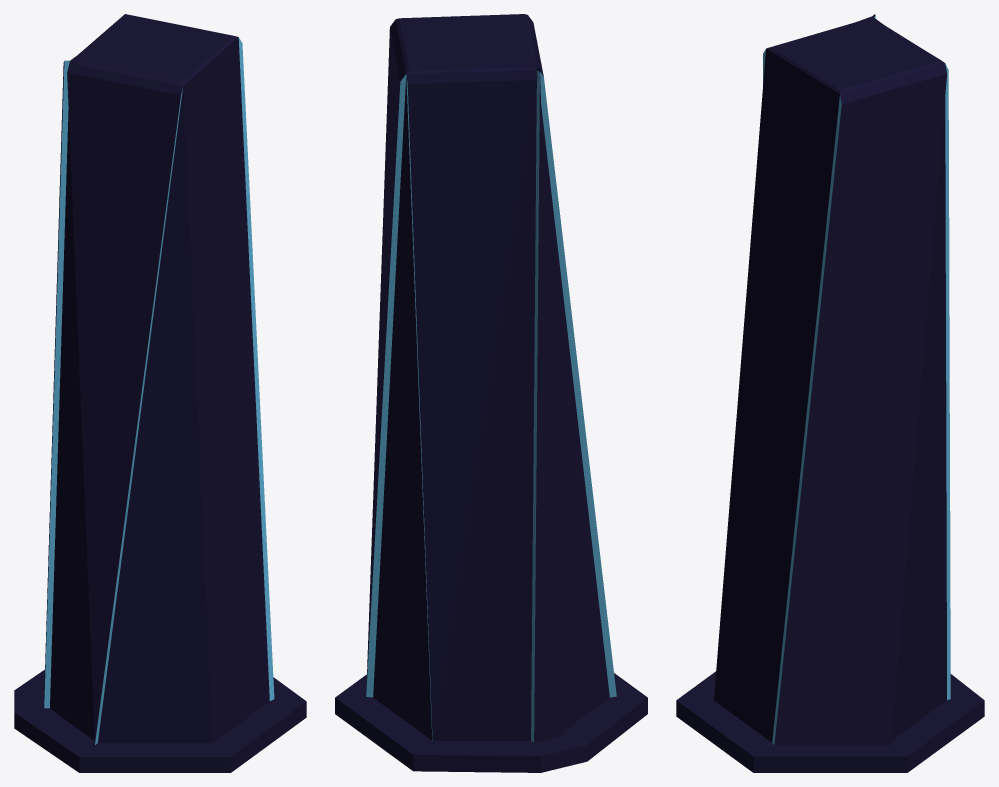
Rendered from House9.fbx.
The picture shows the model from 3 angles, left to right: view 1: azimuth 30°, elevation 25°; view 2: azimuth 150°, elevation 25°; view 3: azimuth 270°, elevation 25°; orthographic projection. The views are drawn at different scales.
Parts seen in each view (by area): view 1: House9; view 2: House9; view 3: House9.
Part boxes in pixels (x1,y1,x2,y2): House9: (14, 14, 306, 772); House9: (335, 14, 647, 772); House9: (676, 14, 984, 772).
Bounding box in the file's own units: 307 × 838 × 350.
